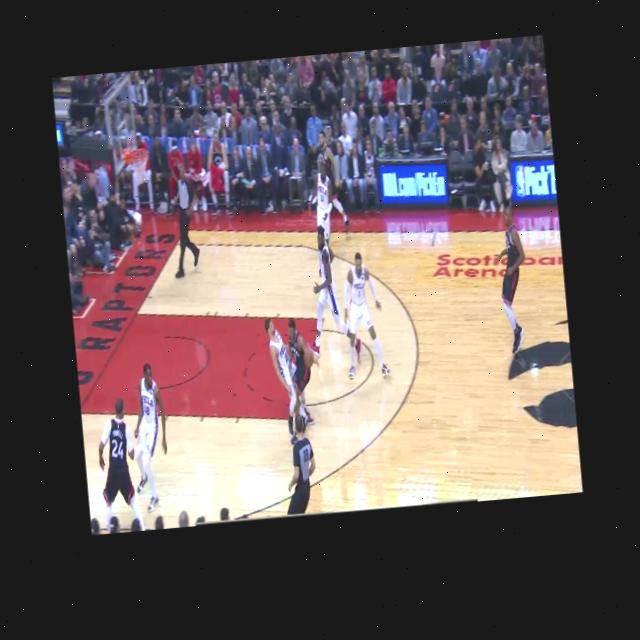Foul: (259, 304, 322, 418)
